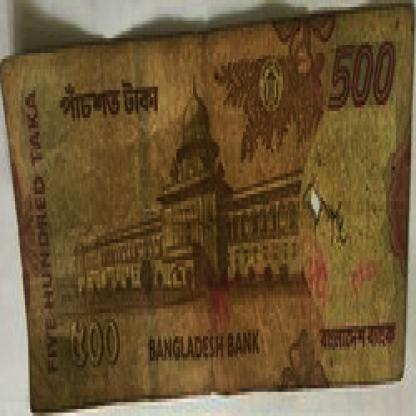500 taka: (42, 70, 173, 136), (65, 295, 128, 378), (325, 38, 396, 111)
currency: (0, 0, 415, 413)
